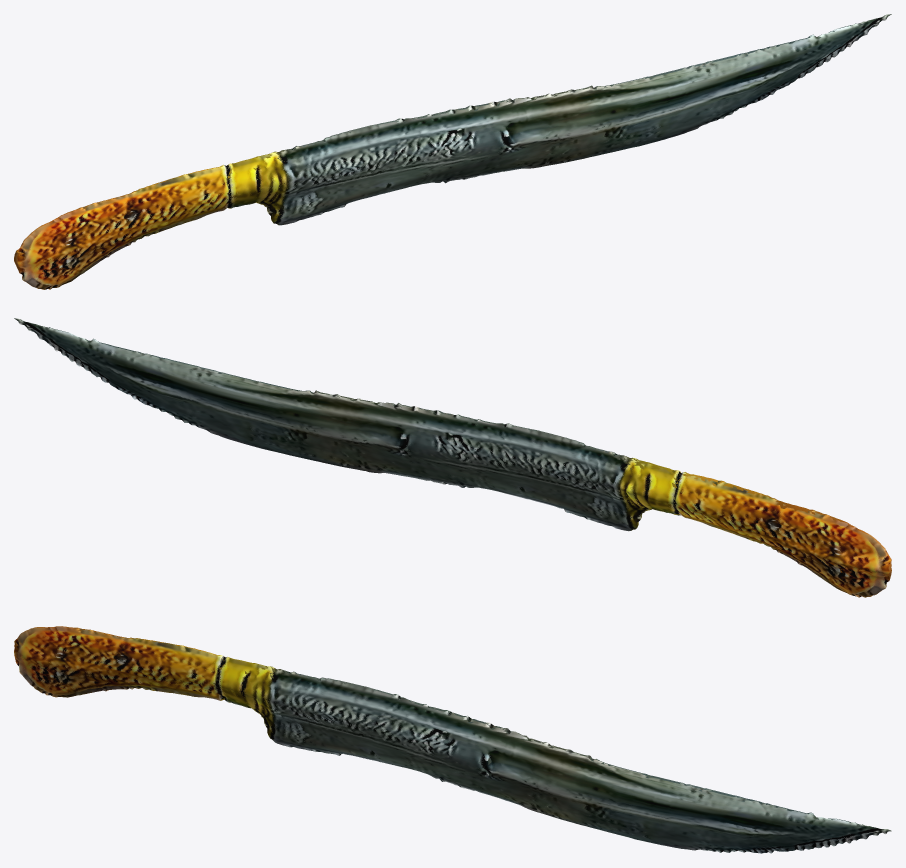
The model's file is kfl-2176.glb.
The picture shows the model from 3 angles, top to bottom: view 1: azimuth 30°, elevation 25°; view 2: azimuth 150°, elevation 25°; view 3: azimuth 330°, elevation 25°; orthographic projection.
Visible parts, largest first — view 1: kfl-2176; view 2: kfl-2176; view 3: kfl-2176.
Boxes of the visible parts, box(x1,y1,x2,y2) form: kfl-2176: box(14, 14, 891, 289); kfl-2176: box(14, 318, 891, 597); kfl-2176: box(14, 626, 891, 853).
Bounding box in the file's own units: 0.9867 × 0.0938 × 0.0438.
Materials: 4 (4 with a texture image).
